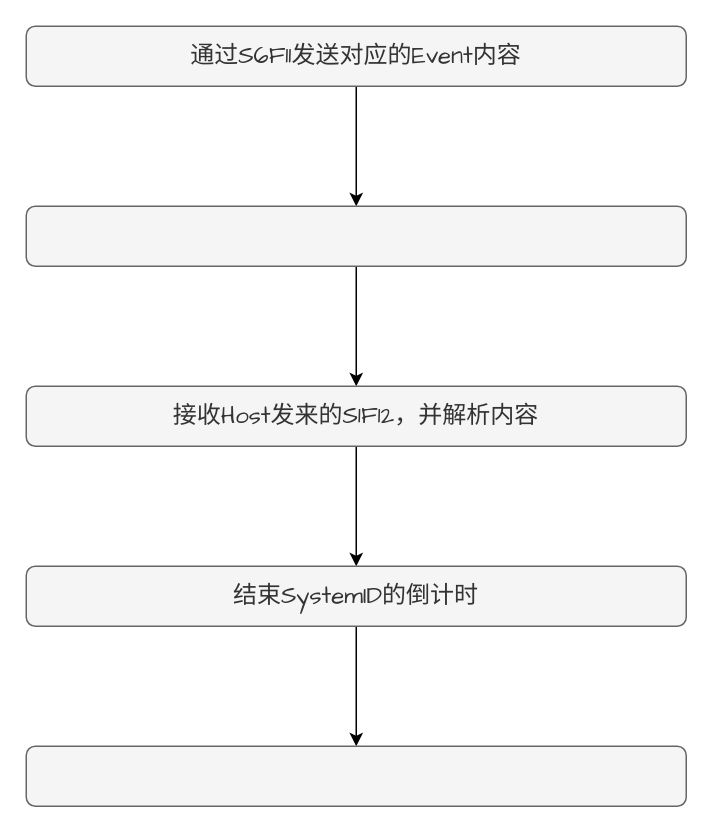
This 713x833 diagram has some shape labels left out. Each missing label, with the centre of its shape:
将SystemID的倒计时移出倒计时列表: point (355, 775)
将该S6F11的SystemID加入到倒计时列表中: point (355, 235)
